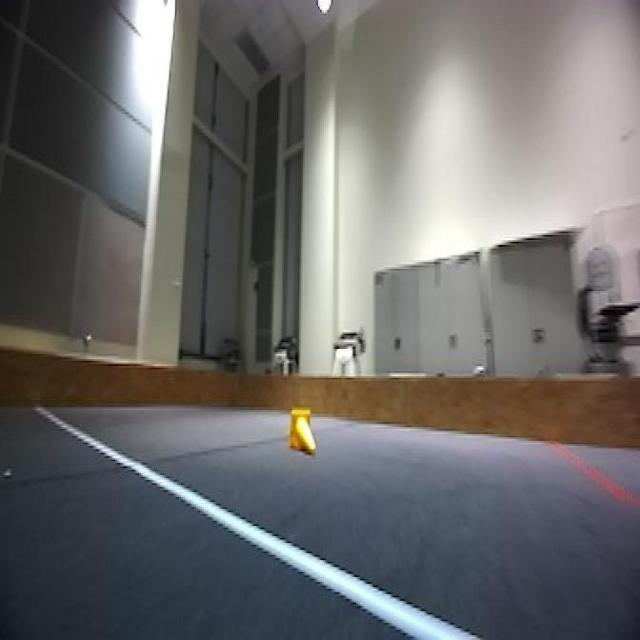frc_cone: (288, 410, 316, 455)
